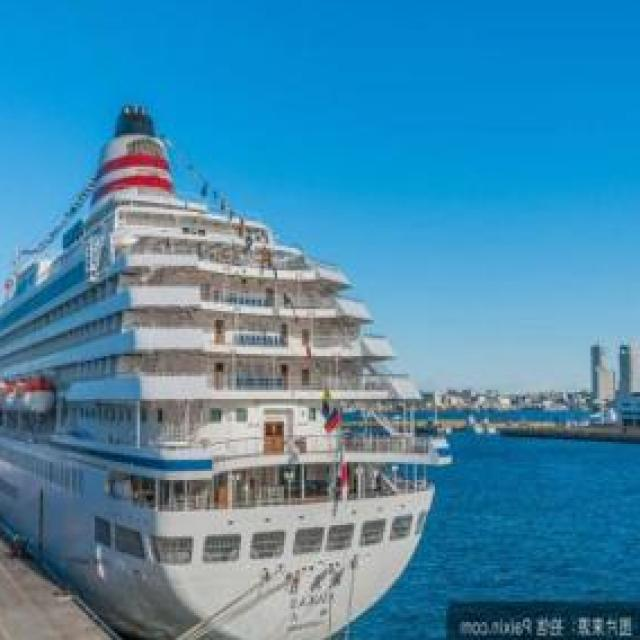passenger ship: (0, 101, 446, 640)
